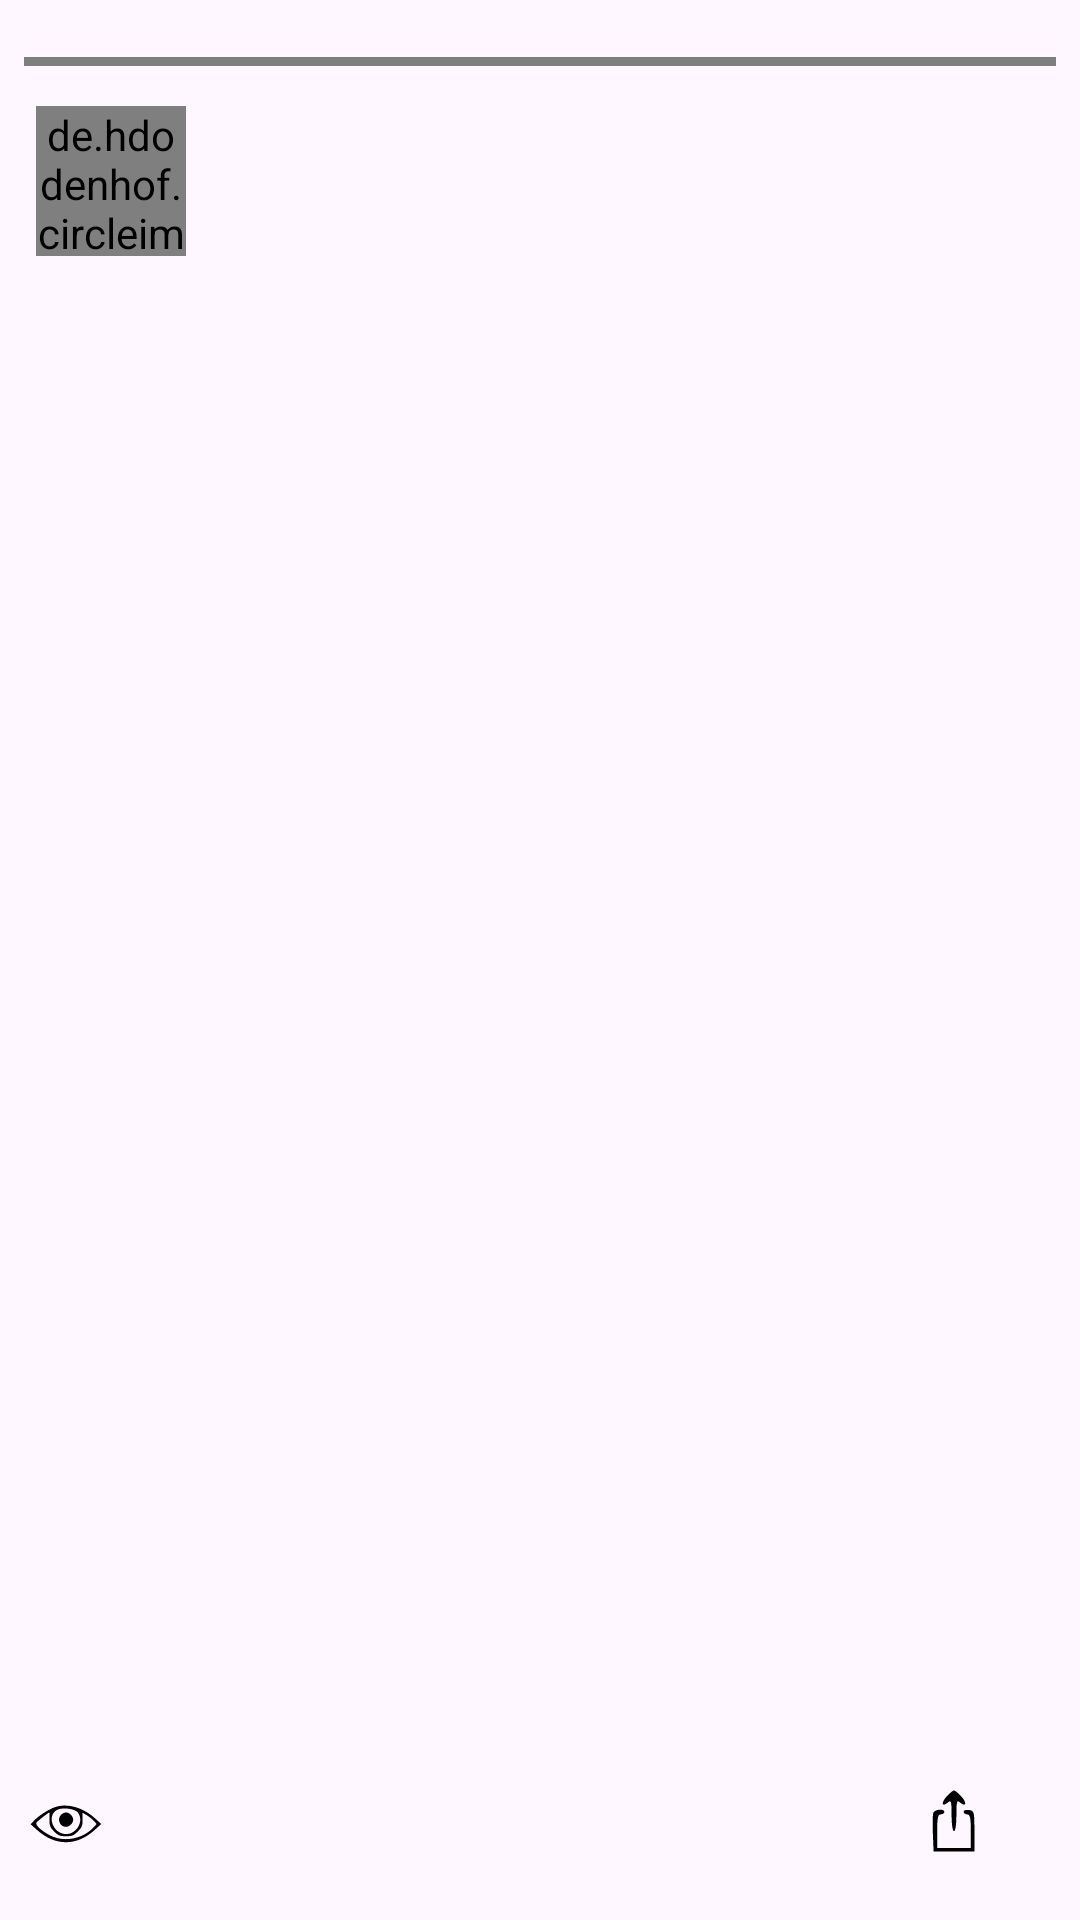

Icons on this 1080px x 1920px Android screen, each with its box as BBox(x1, y1, x2, y2):
share: BBox(932, 1790, 975, 1852)
view: BBox(30, 1805, 101, 1843)
